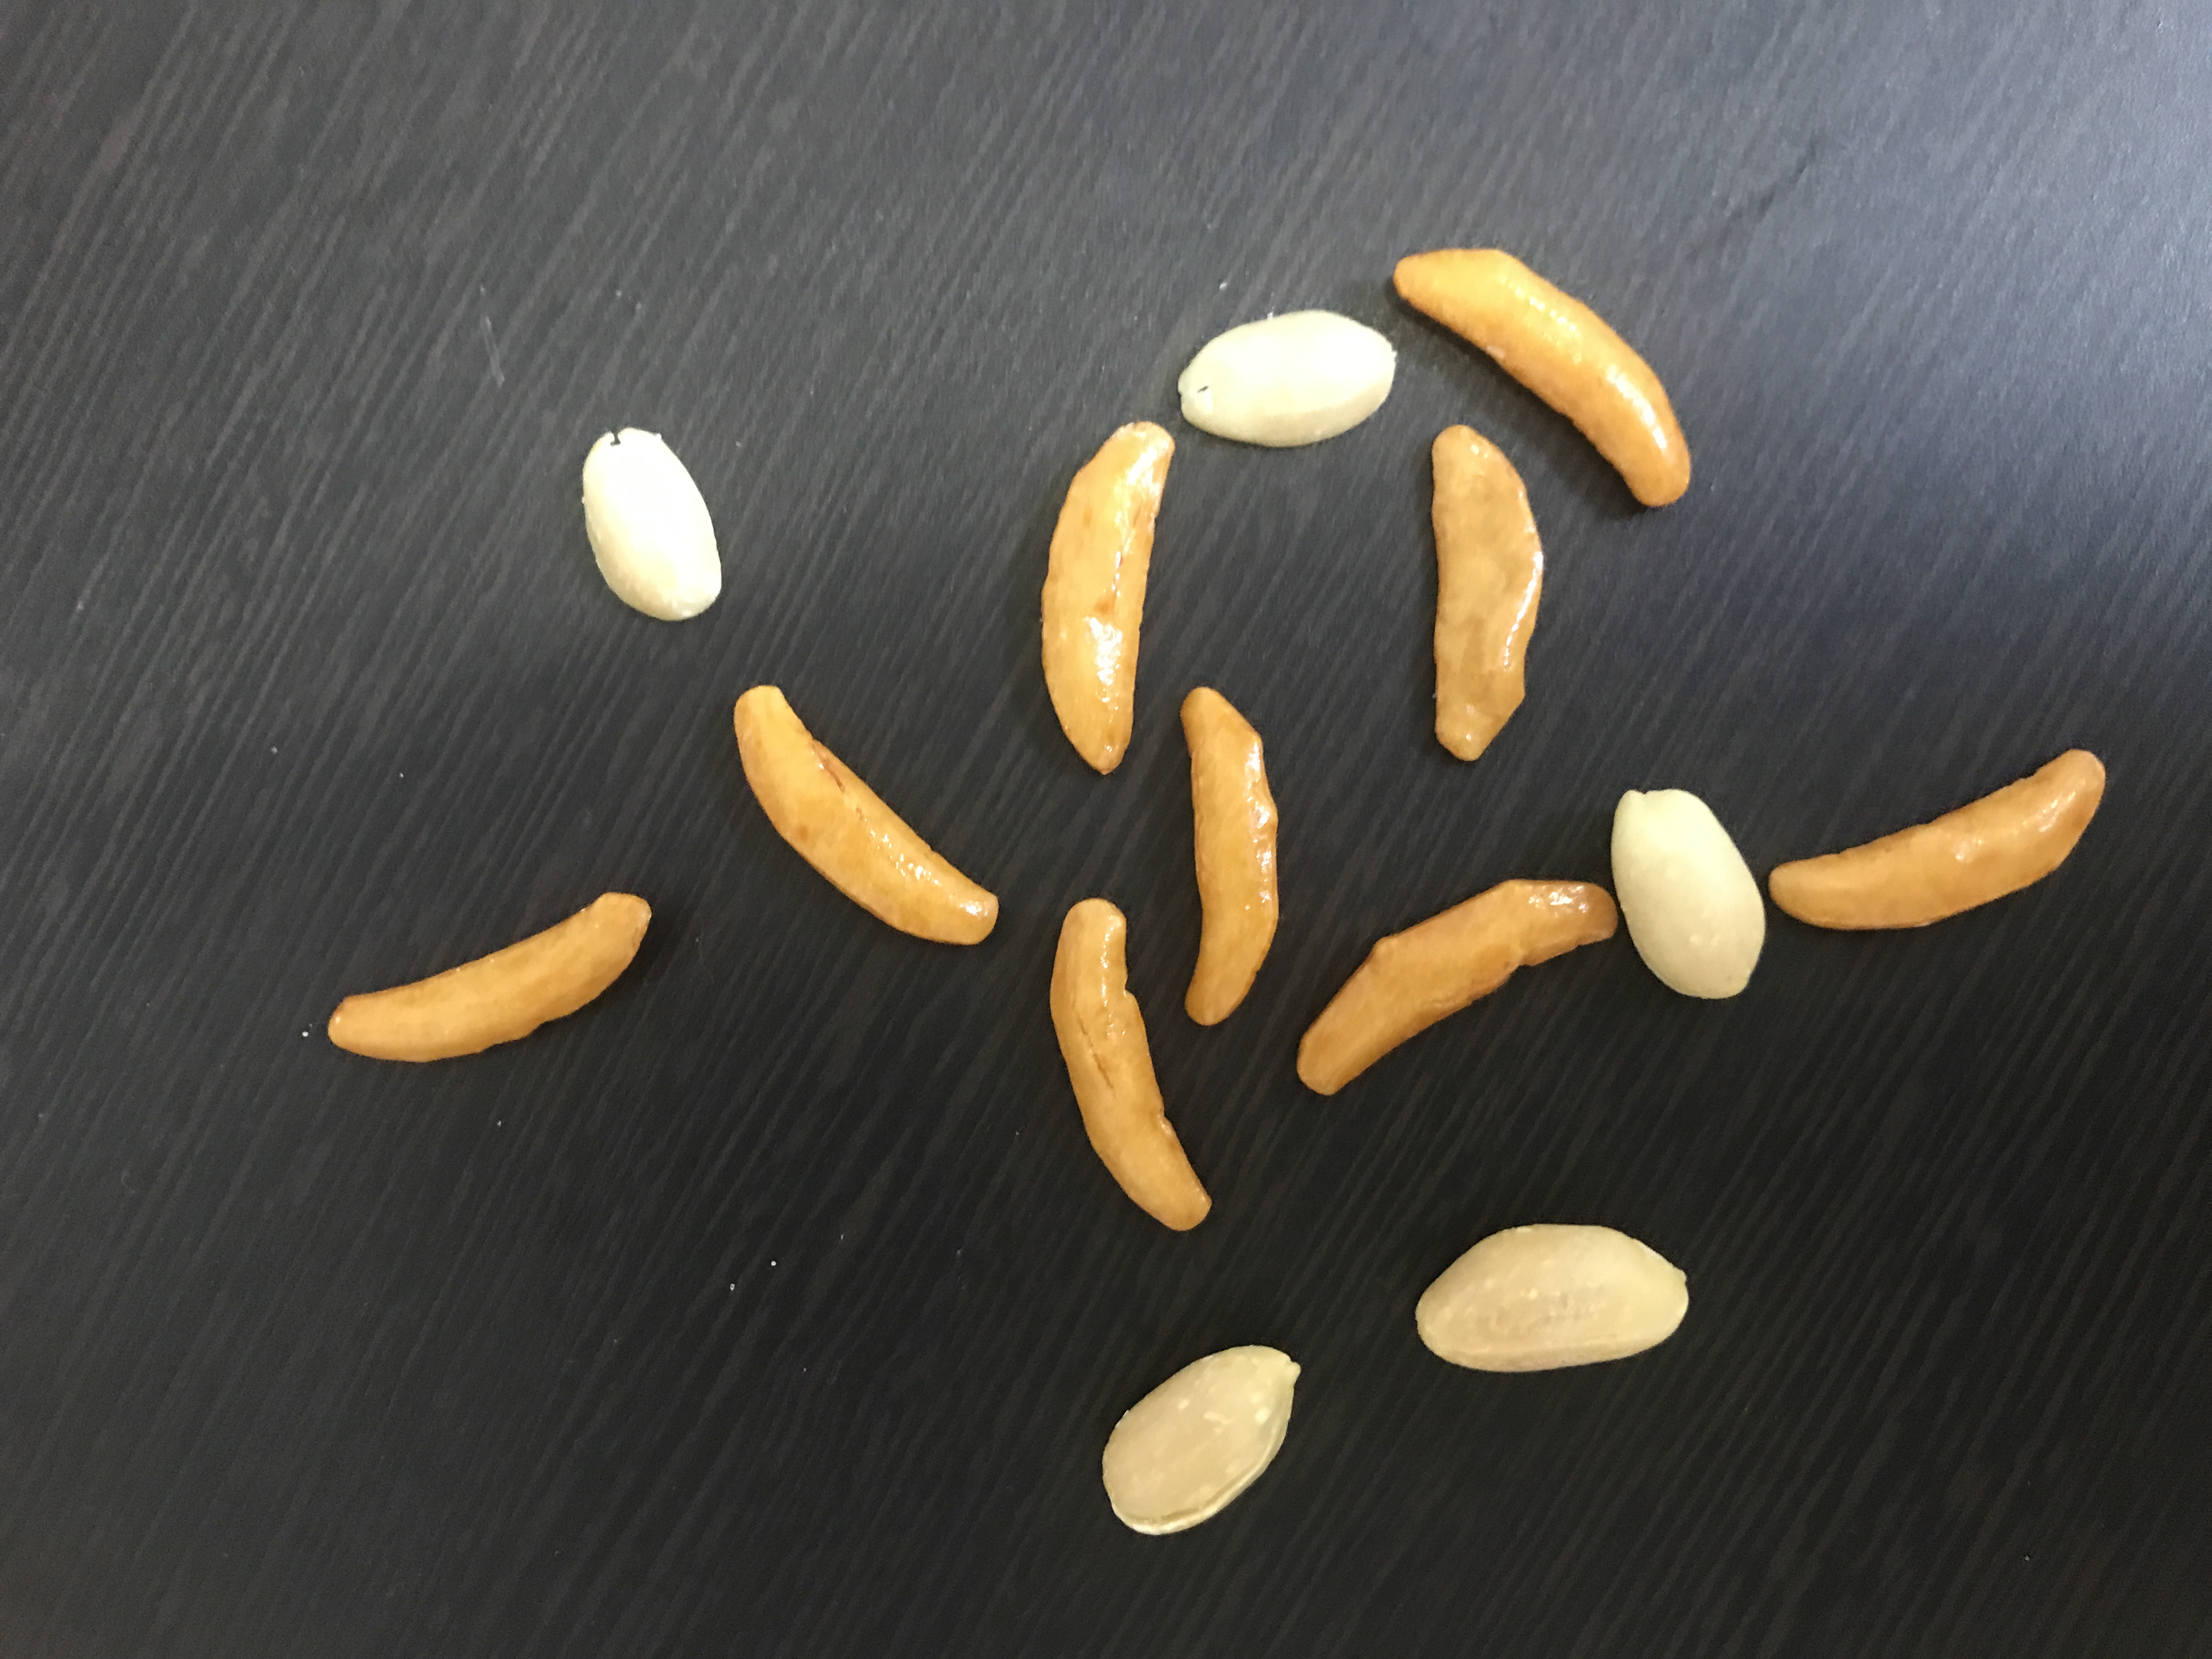peanut: (1413, 1222, 1693, 1377), (1099, 1340, 1306, 1535), (1609, 781, 1775, 1007), (1177, 305, 1399, 455), (577, 422, 721, 619)
